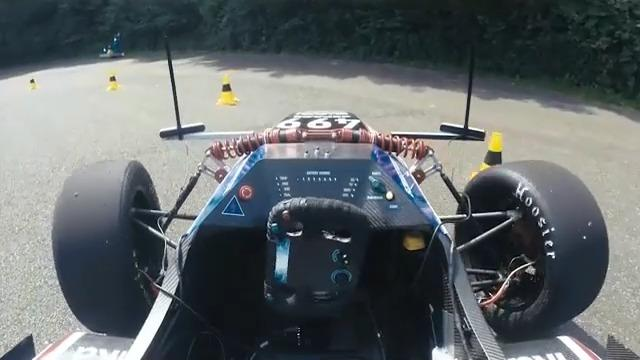yellow_cone: (470, 131, 511, 191), (216, 75, 240, 107), (105, 70, 122, 91)
